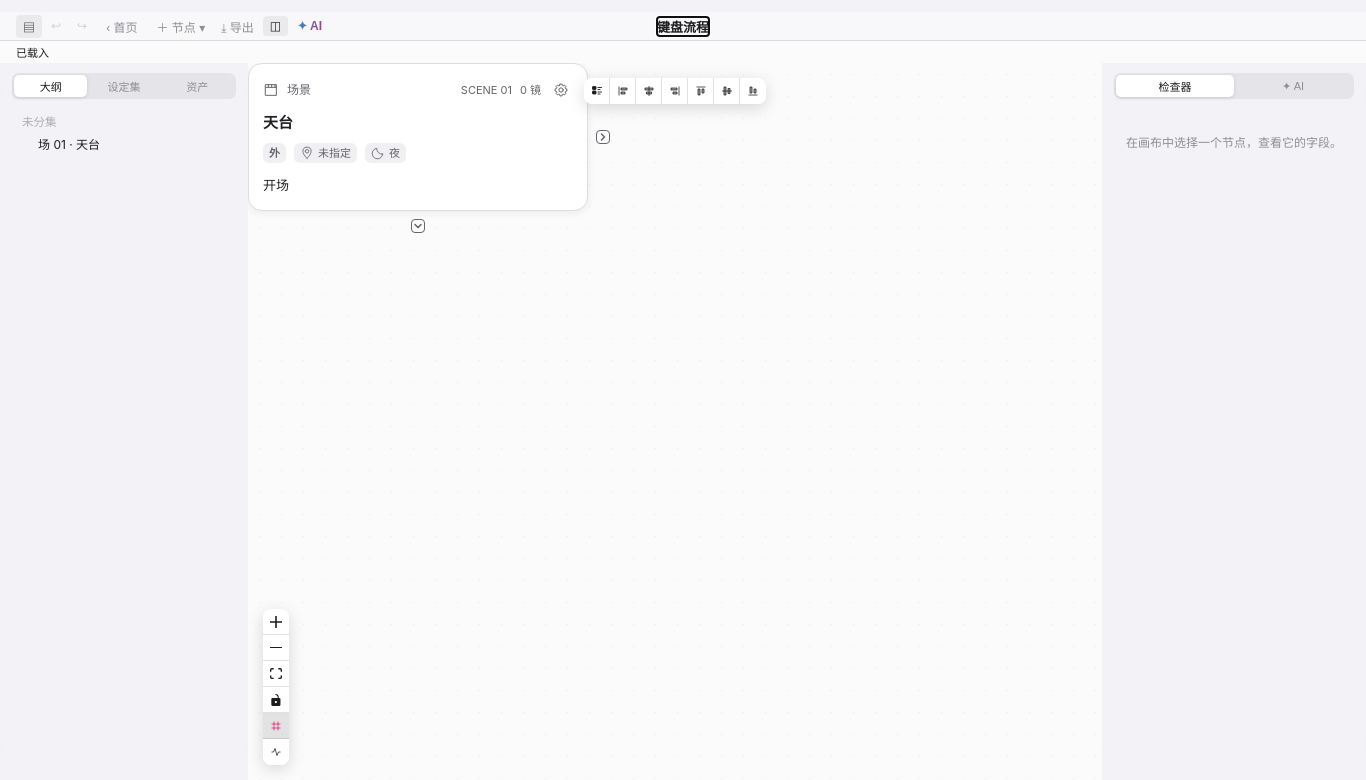
Test: 编辑器键盘流程（issue #238） › 工具栏项目名纯键盘改名：Enter 进入、输入、Enter 提交
Press Enter in the button "键盘流程", box [657, 16, 709, 36]
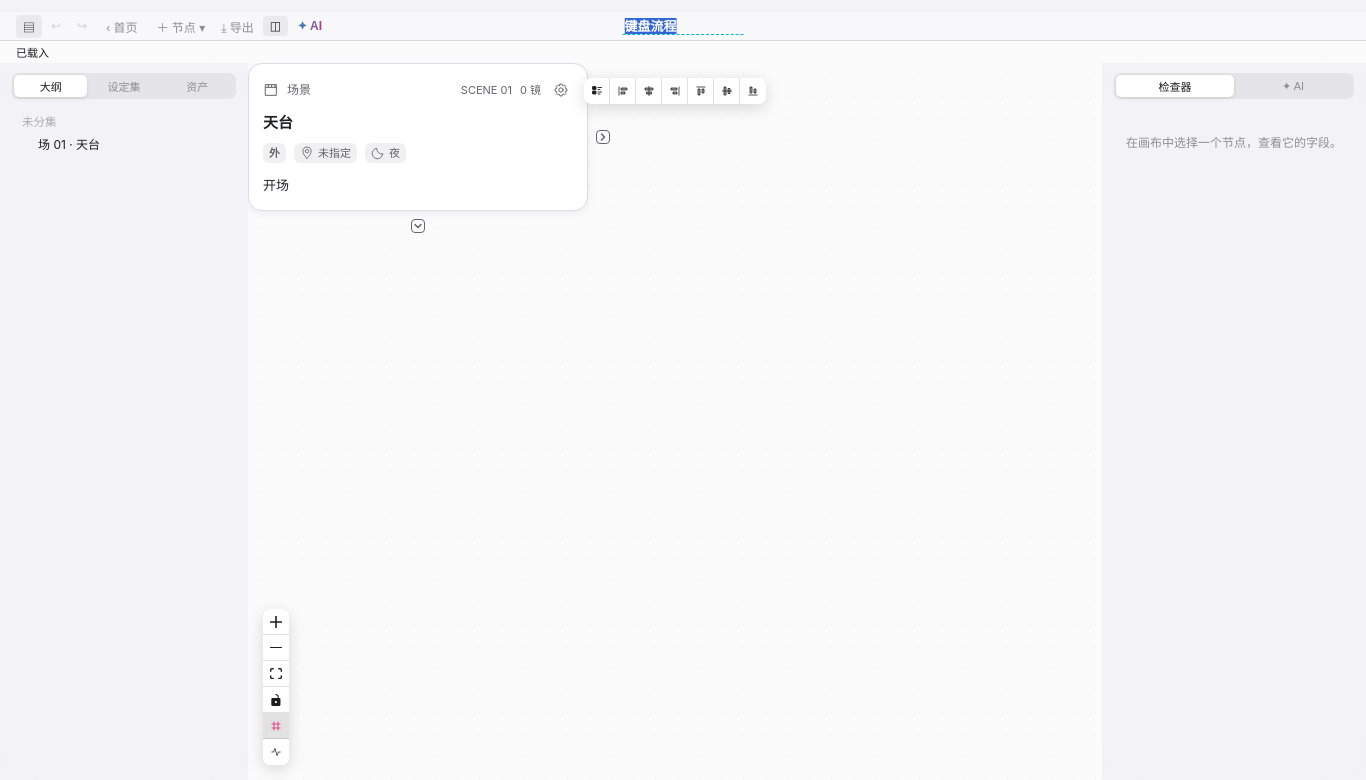
Replace the text in the field named "项目名" with "键盘流程·二稿": [683, 26] box [622, 18, 744, 34]
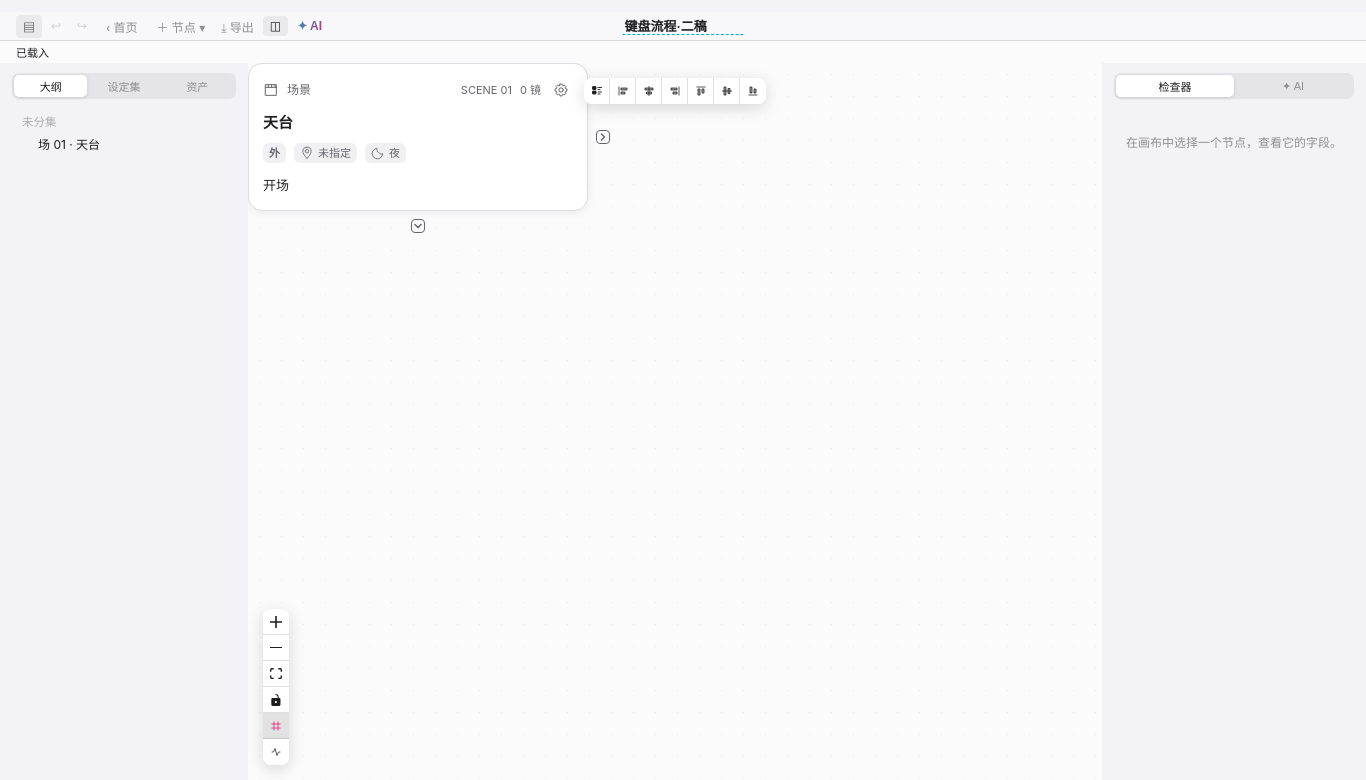
Press Enter in the field named "项目名", box [622, 18, 744, 34]
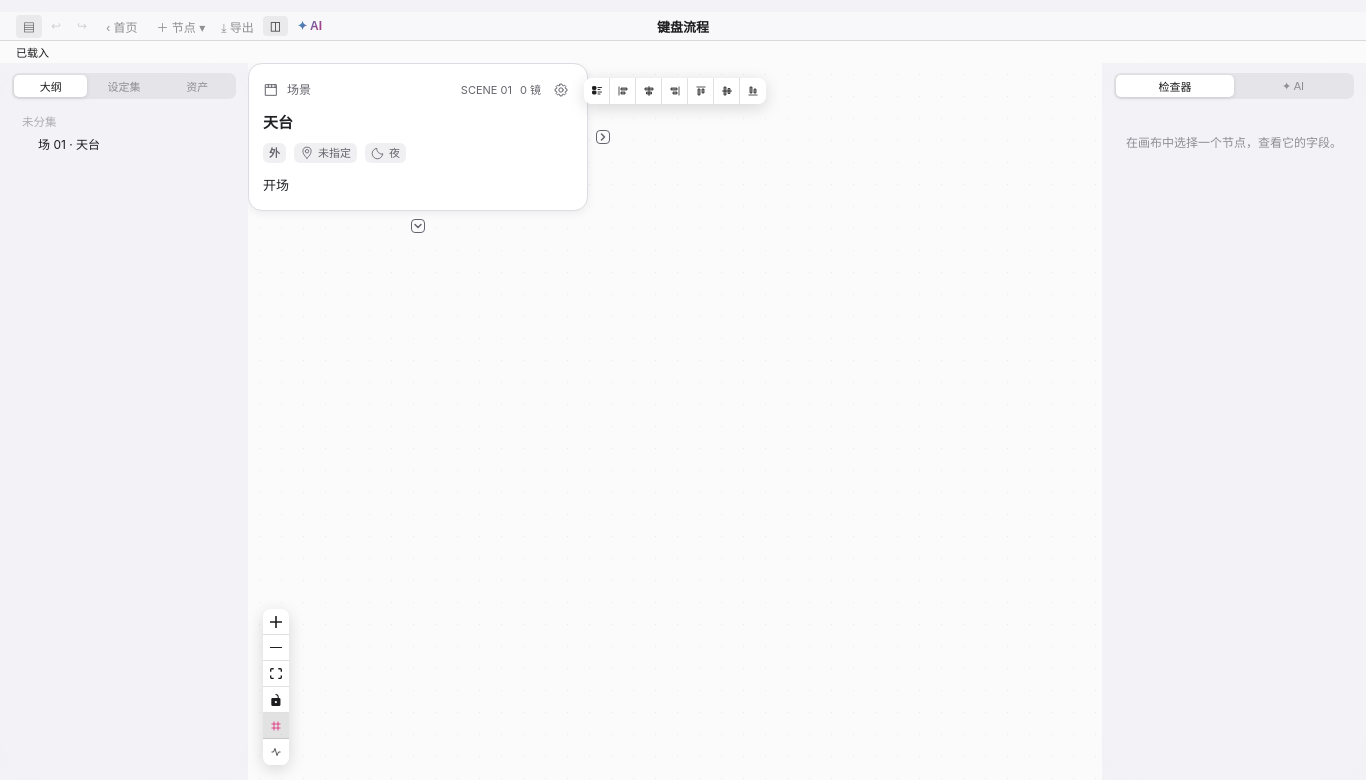
Check: the button "键盘流程" is shown, box [657, 16, 709, 36]
Check: the field labelled "项目名" is gone
